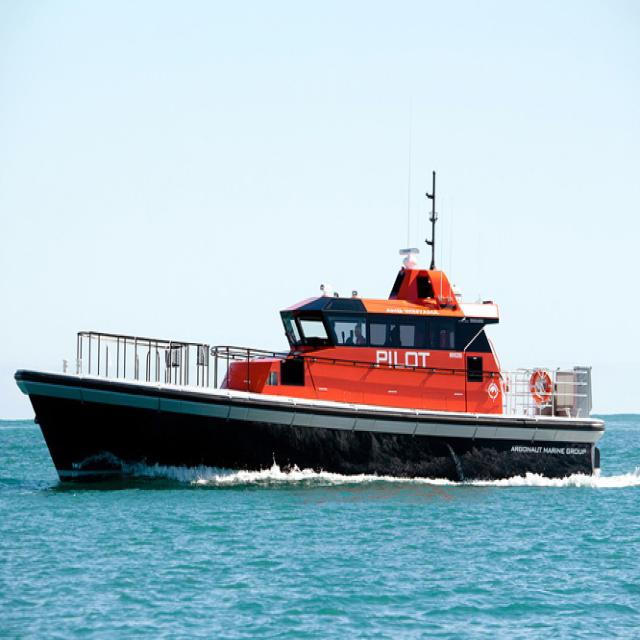houseboat: (8, 235, 601, 486)
